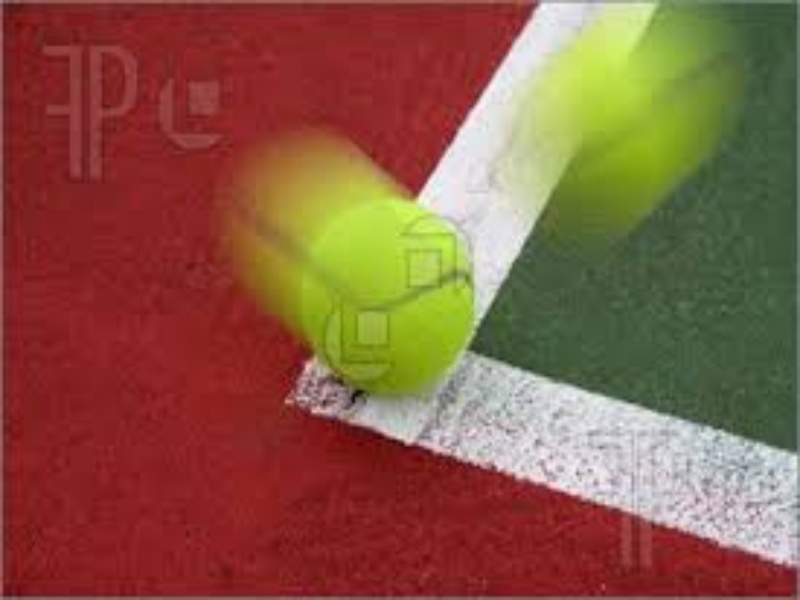tennis ball: (242, 148, 496, 416), (524, 17, 752, 224)
